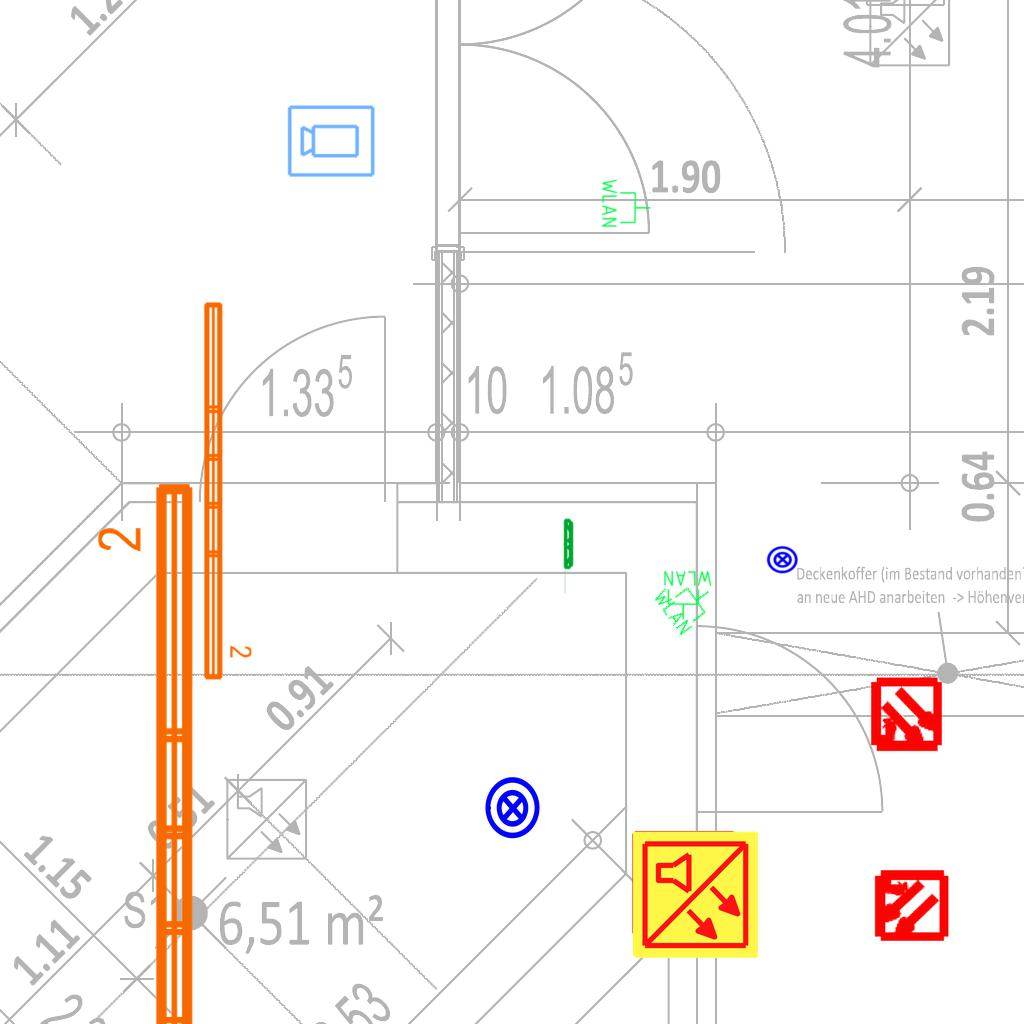Ambulanz_Pendelleuchte_LED: (93, 475, 205, 1024), (198, 297, 254, 684)
KFO_Kamera_mit_Festobjektiv: (286, 102, 377, 179)
OKW_Multisensormelder_(Kombination_optischer_Rauch-Kahlenmonoxid_Waerme-Melder): (629, 829, 761, 961)
OT_Multisensormelder_(Kombination_RMO_WMD): (850, 660, 963, 773), (853, 849, 966, 962)
Sicherheitsleuchte_Wandeinbau: (563, 517, 575, 596)
Taster_beleuchtet: (480, 775, 546, 841), (766, 543, 799, 576)
WLAN: (649, 565, 723, 639), (600, 177, 652, 229), (662, 569, 714, 621)
